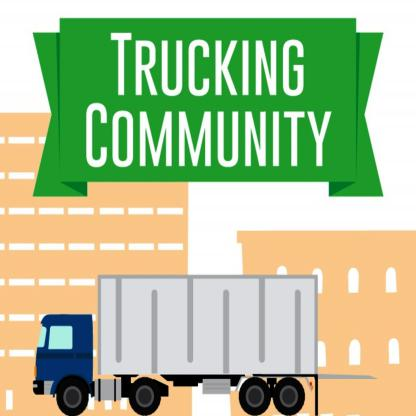Truck: (73, 274, 334, 412)
